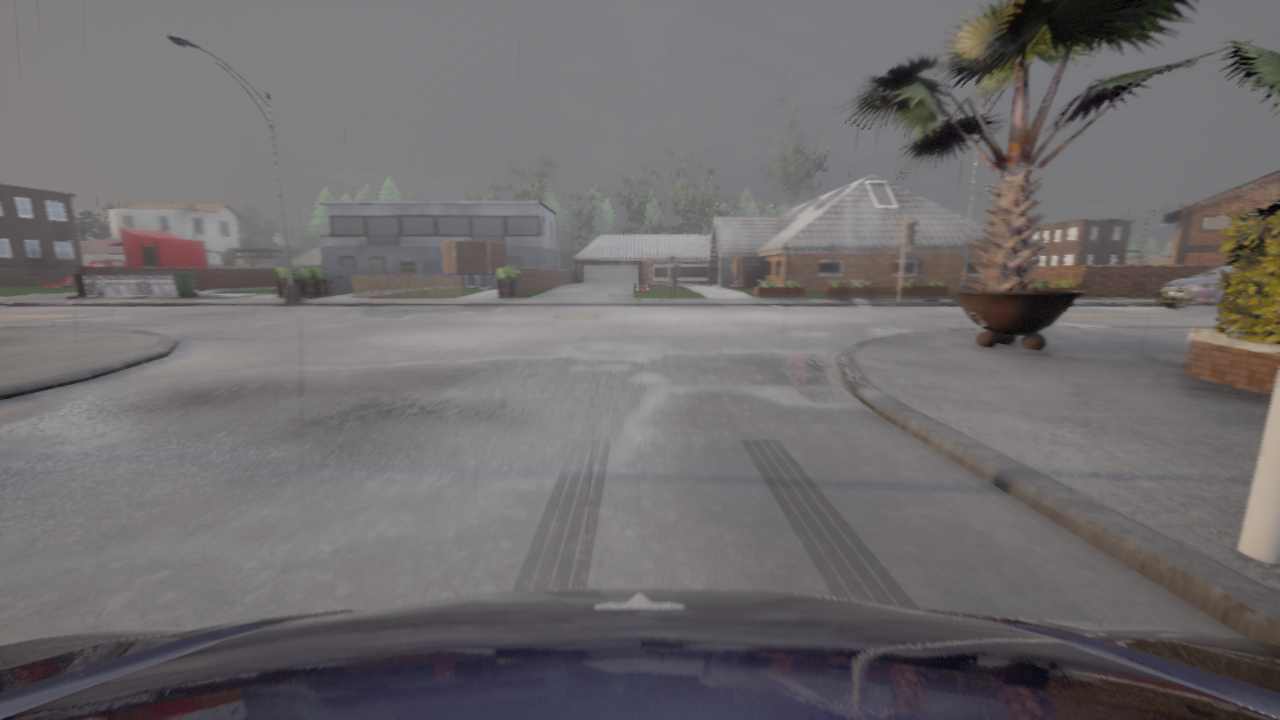cyclist: (0, 588, 1279, 719), (1156, 264, 1236, 310)
